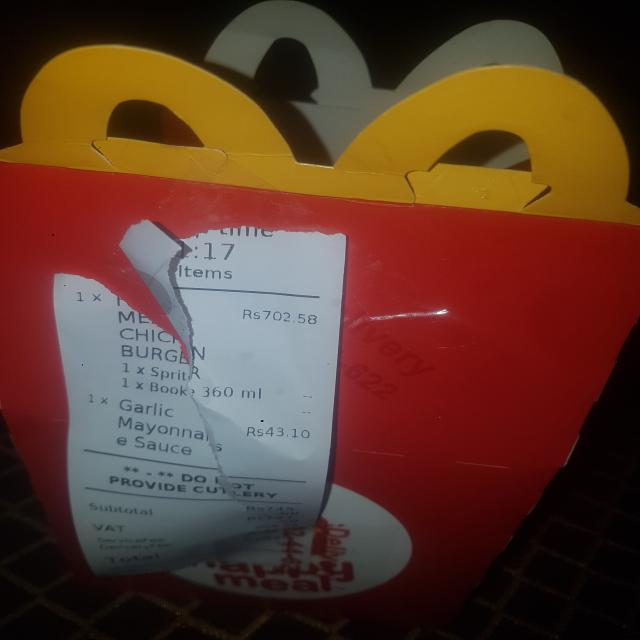electronic: (51, 219, 347, 577)
